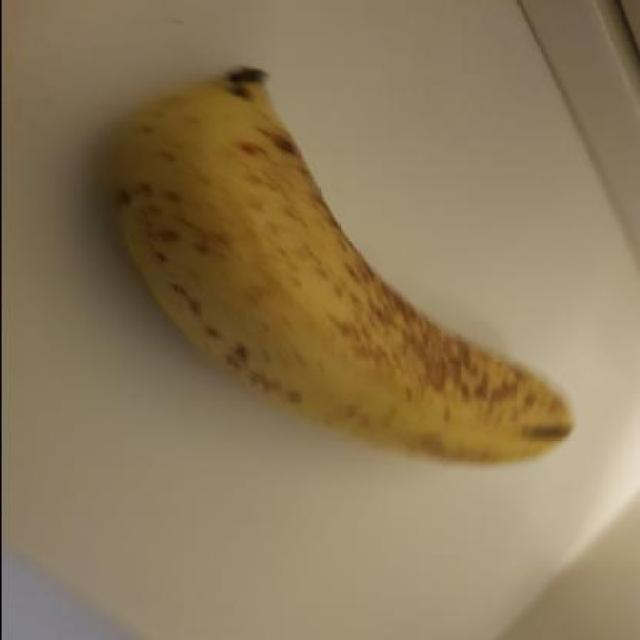Banana: (108, 55, 580, 468)
